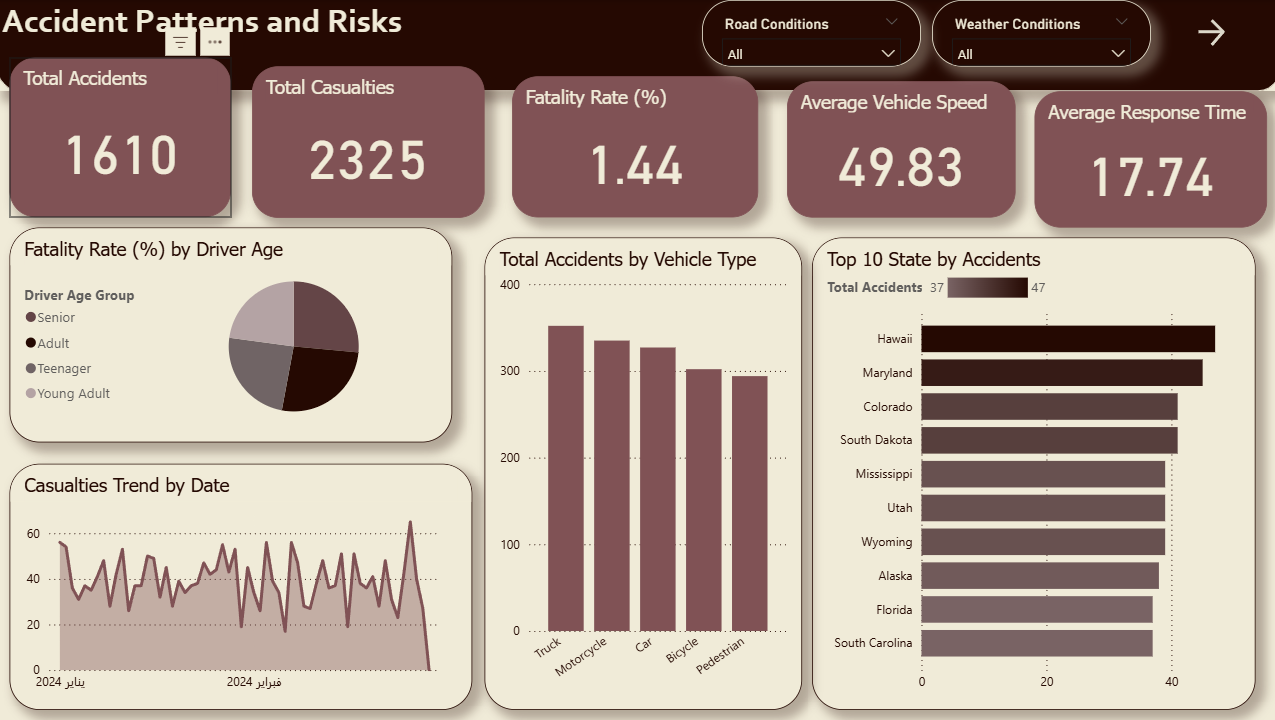

This screenshot's page, from the dashboard's own definition file:
{"tool":"powerbi","page":{"name":"Accident Analysis","canvas":[1280,720],"ordinal":0},"visuals":[{"type":"shape","box":[0,0,1280.4,720.6],"z":0},{"type":"shape","box":[0,0,1280.4,91],"z":1000},{"type":"textbox","title":"  Accident Patterns and Risks","box":[0,0,1280.4,48.6],"z":2000},{"type":"card","title":"Total Accidents","fields":{"Values":["_Measures.Total Accidents"]},"box":[12.5,57.4,220.7,159.6],"z":3000},{"type":"card","title":"Total Casualties","fields":{"Values":["_Measures.Total Casualties"]},"box":[254.3,66.1,231.9,150.9],"z":4000},{"type":"card","title":"Fatality Rate (%)","fields":{"Values":["_Measures.Fatality Rate (%)"]},"box":[513.7,76.1,245.6,140.9],"z":5000},{"type":"card","title":"Average Vehicle Speed","fields":{"Values":["_Measures.Average Vehicle Speed"]},"box":[787.9,81,228.2,135.9],"z":6000},{"type":"card","title":"Average Response Time","fields":{"Values":["_Measures.Average Response Time (min)"]},"box":[1034.8,91,231.9,135.9],"z":7000},{"type":"lineChart","title":"Casualties Trend by Date","fields":{"Category":["road_accident_data_cleaned.Date.Variation.Date Hierarchy.Year","road_accident_data_cleaned.Date.Variation.Date Hierarchy.Quarter","road_accident_data_cleaned.Date.Variation.Date Hierarchy.Month","road_accident_data_cleaned.Date.Variation.Date Hierarchy.Day"],"Y":["_Measures.Total Casualties"]},"box":[12.5,462.5,461.3,245.6],"z":8000},{"type":"clusteredBarChart","title":"Top 10 State by Accidents","fields":{"Category":["road_accident_data_cleaned.State"],"Y":["_Measures.Total Accidents"]},"box":[812.9,236.9,442.6,471.3],"z":9000},{"type":"pieChart","title":"Fatality Rate (%) by Driver Age","fields":{"Category":["road_accident_data_cleaned.Driver_Age_Group"],"Y":["_Measures.Fatality Rate (%)"]},"box":[12.5,226.9,441.4,214.4],"z":10000},{"type":"clusteredColumnChart","title":"Total Accidents by Vehicle Type","fields":{"Y":["_Measures.Total Accidents"],"Category":["road_accident_data_cleaned.Vehicle_Type"]},"box":[486.2,236.9,316.7,471.3],"z":11000},{"type":"slicer","fields":{"Values":["road_accident_data_cleaned.Weather_Conditions"]},"box":[932.6,0,218.2,66.1],"z":12000},{"type":"slicer","fields":{"Values":["road_accident_data_cleaned.Type_of_Accident"]},"box":[703.2,0,218.2,66.1],"z":13000},{"type":"actionButton","box":[1189.4,11.2,66.1,42.4],"z":13001}]}

Visuals, with their boxes in screenshot pixels (x1, y1, x2, y2), scaled from the page's 1280x720 canvas onto the 1275x720 screenshot:
shape: (left=0, top=0, right=1274, bottom=719)
shape: (left=0, top=0, right=1274, bottom=91)
"  Accident Patterns and Risks" textbox: (left=0, top=0, right=1274, bottom=49)
"Total Accidents" card: (left=12, top=57, right=232, bottom=217)
"Total Casualties" card: (left=253, top=66, right=484, bottom=217)
"Fatality Rate (%)" card: (left=512, top=76, right=756, bottom=217)
"Average Vehicle Speed" card: (left=785, top=81, right=1012, bottom=217)
"Average Response Time" card: (left=1031, top=91, right=1262, bottom=227)
"Casualties Trend by Date" lineChart: (left=12, top=462, right=472, bottom=708)
"Top 10 State by Accidents" clusteredBarChart: (left=810, top=237, right=1251, bottom=708)
"Fatality Rate (%) by Driver Age" pieChart: (left=12, top=227, right=452, bottom=441)
"Total Accidents by Vehicle Type" clusteredColumnChart: (left=484, top=237, right=800, bottom=708)
slicer - road_accident_data_cleaned.Weather_Conditions: (left=929, top=0, right=1146, bottom=66)
slicer - road_accident_data_cleaned.Type_of_Accident: (left=700, top=0, right=918, bottom=66)
actionButton: (left=1185, top=11, right=1251, bottom=54)
